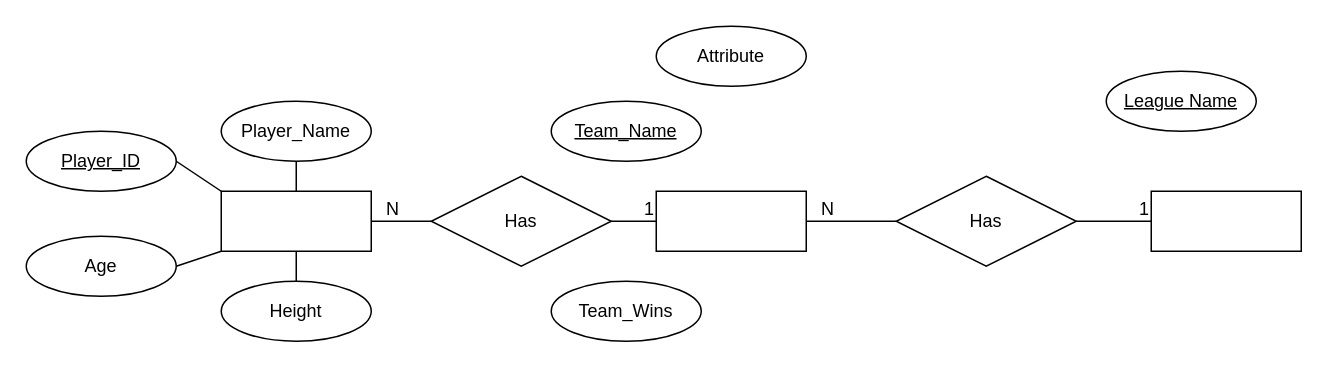
Image size: 1328x368. Some labels were removed from this diagram. The box of each missing label's shape, as (x1, y1, x2, y2) in pixels:
League: (1150, 190, 1301, 251)
Player: (220, 190, 371, 251)
Team: (655, 190, 806, 251)
